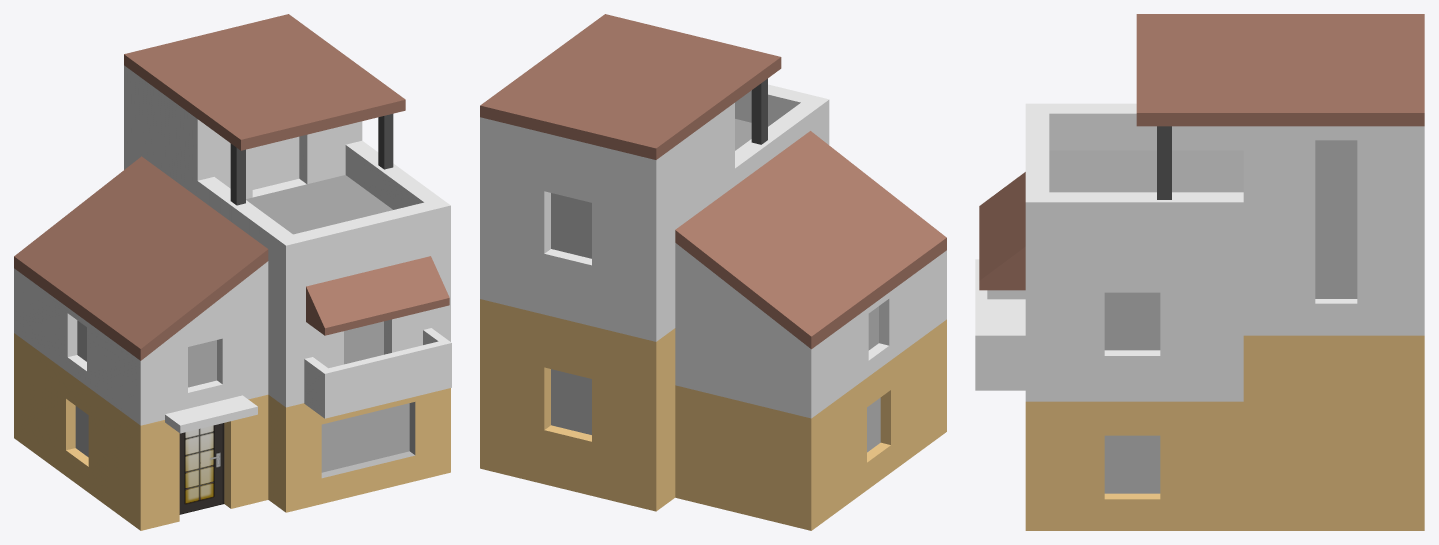
The model's file is Town_Bld_House_D.FBX.
3 renders of one model, left to right at view 1: azimuth 30°, elevation 25°; view 2: azimuth 150°, elevation 25°; view 3: azimuth 270°, elevation 25°, orthographic. The views are drawn at different scales.
Visible parts, largest first — view 1: Town_Bld_House_D; view 2: Town_Bld_House_D; view 3: Town_Bld_House_D.
Part boxes in pixels (x1=…): Town_Bld_House_D: x1=14, y1=14, x2=451, y2=530; Town_Bld_House_D: x1=480, y1=14, x2=946, y2=530; Town_Bld_House_D: x1=975, y1=14, x2=1424, y2=530.
Size of the model in its own units: 501 by 556 by 541.
